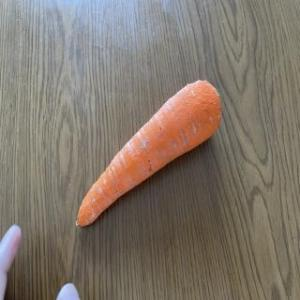carrot: (77, 77, 223, 235)
